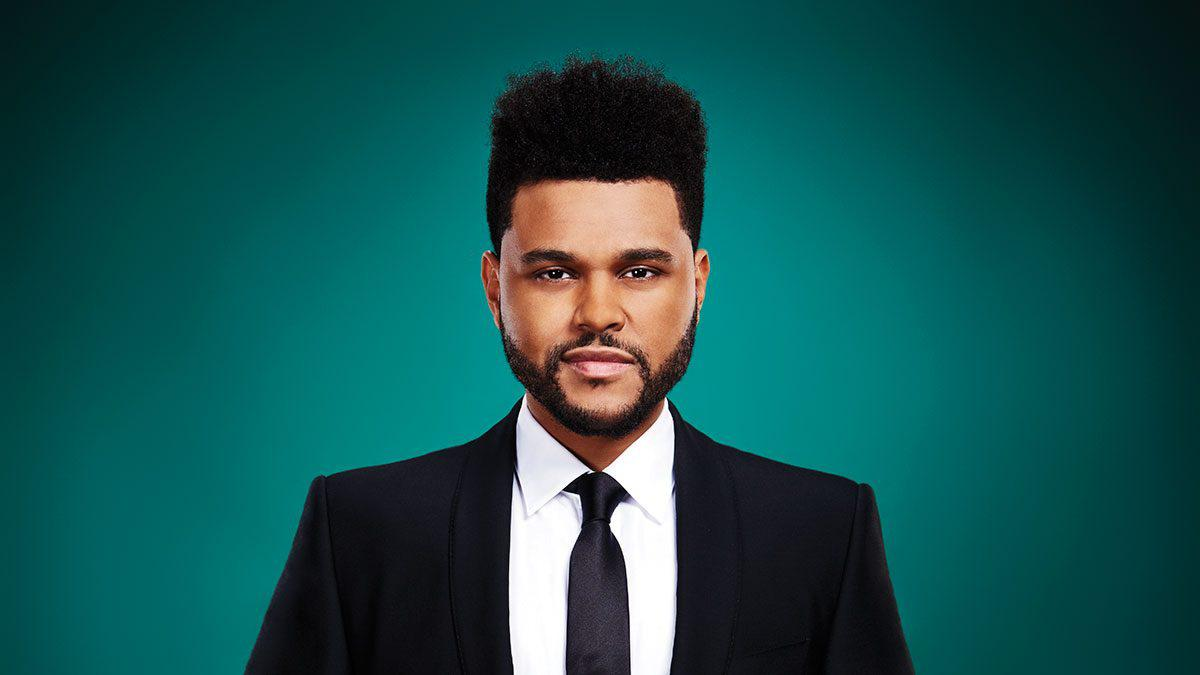NoMask: (513, 235, 685, 435)
